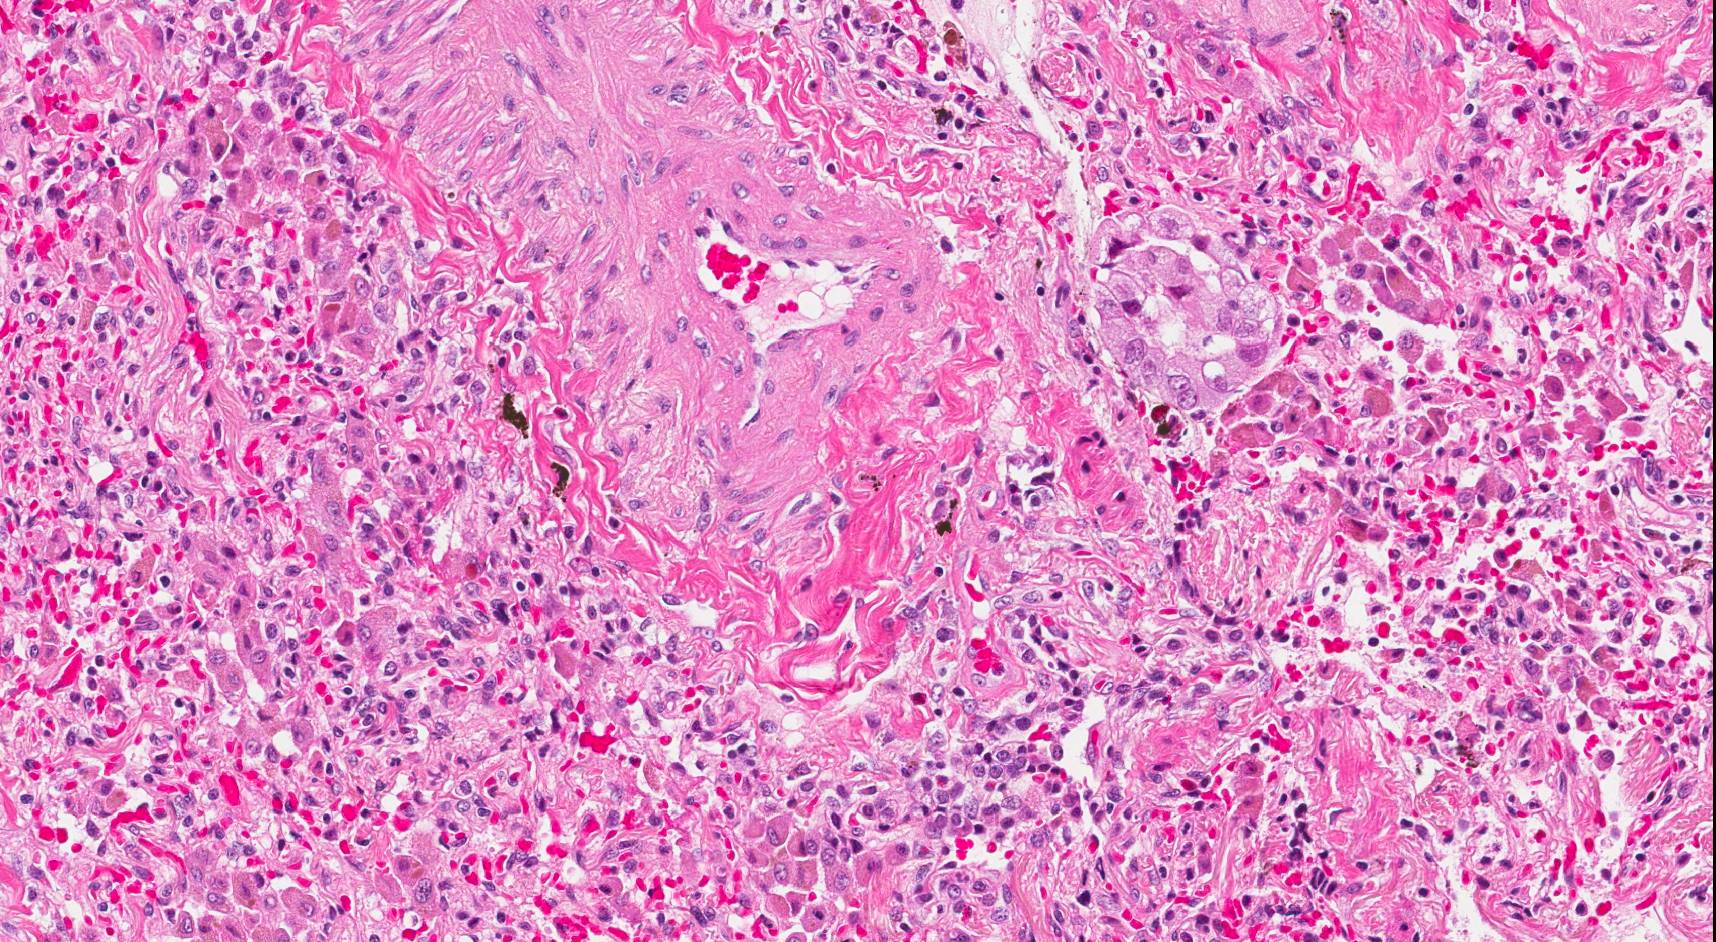stas: (1089, 204, 1288, 418)
